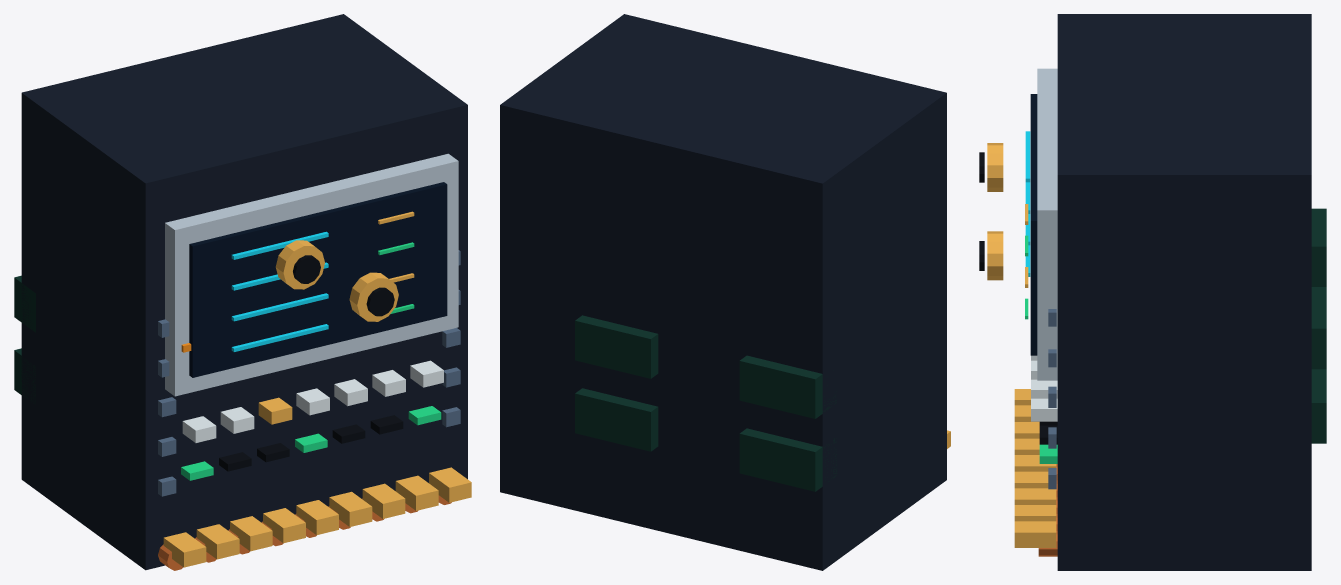
The model's file is 73_L91_PropulsionCommandSupervisor.fbx.
The picture shows the model from 3 angles, left to right: view 1: azimuth 30°, elevation 25°; view 2: azimuth 150°, elevation 25°; view 3: azimuth 270°, elevation 25°; orthographic projection. The views are drawn at different scales.
Visible parts, largest first — view 1: L91_PropulsionCommandSupervisor, L91_PropulsionCommandSupervisor_Part_0013, L91_PropulsionCommandSupervisor_Part_0015, L91_PropulsionCommandSupervisor_Part_0016, L91_PropulsionCommandSupervisor_Part_0014; view 2: L91_PropulsionCommandSupervisor; view 3: L91_PropulsionCommandSupervisor, L91_PropulsionCommandSupervisor_Part_0015, L91_PropulsionCommandSupervisor_Part_0013.
Boxes of the visible parts, x1=… form: L91_PropulsionCommandSupervisor: x1=14, y1=14, x2=471, y2=570; L91_PropulsionCommandSupervisor_Part_0013: x1=275, y1=240, x2=324, y2=289; L91_PropulsionCommandSupervisor_Part_0015: x1=349, y1=272, x2=398, y2=321; L91_PropulsionCommandSupervisor_Part_0016: x1=366, y1=287, x2=394, y2=316; L91_PropulsionCommandSupervisor_Part_0014: x1=293, y1=255, x2=320, y2=283; L91_PropulsionCommandSupervisor: x1=500, y1=14, x2=950, y2=570; L91_PropulsionCommandSupervisor: x1=1014, y1=14, x2=1326, y2=570; L91_PropulsionCommandSupervisor_Part_0015: x1=987, y1=231, x2=1003, y2=280; L91_PropulsionCommandSupervisor_Part_0013: x1=987, y1=143, x2=1003, y2=191.
Size of the model in its own units: 100 by 115 by 91.63.
